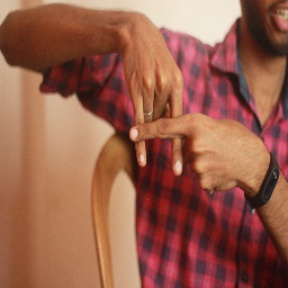H: (108, 70, 212, 185)
